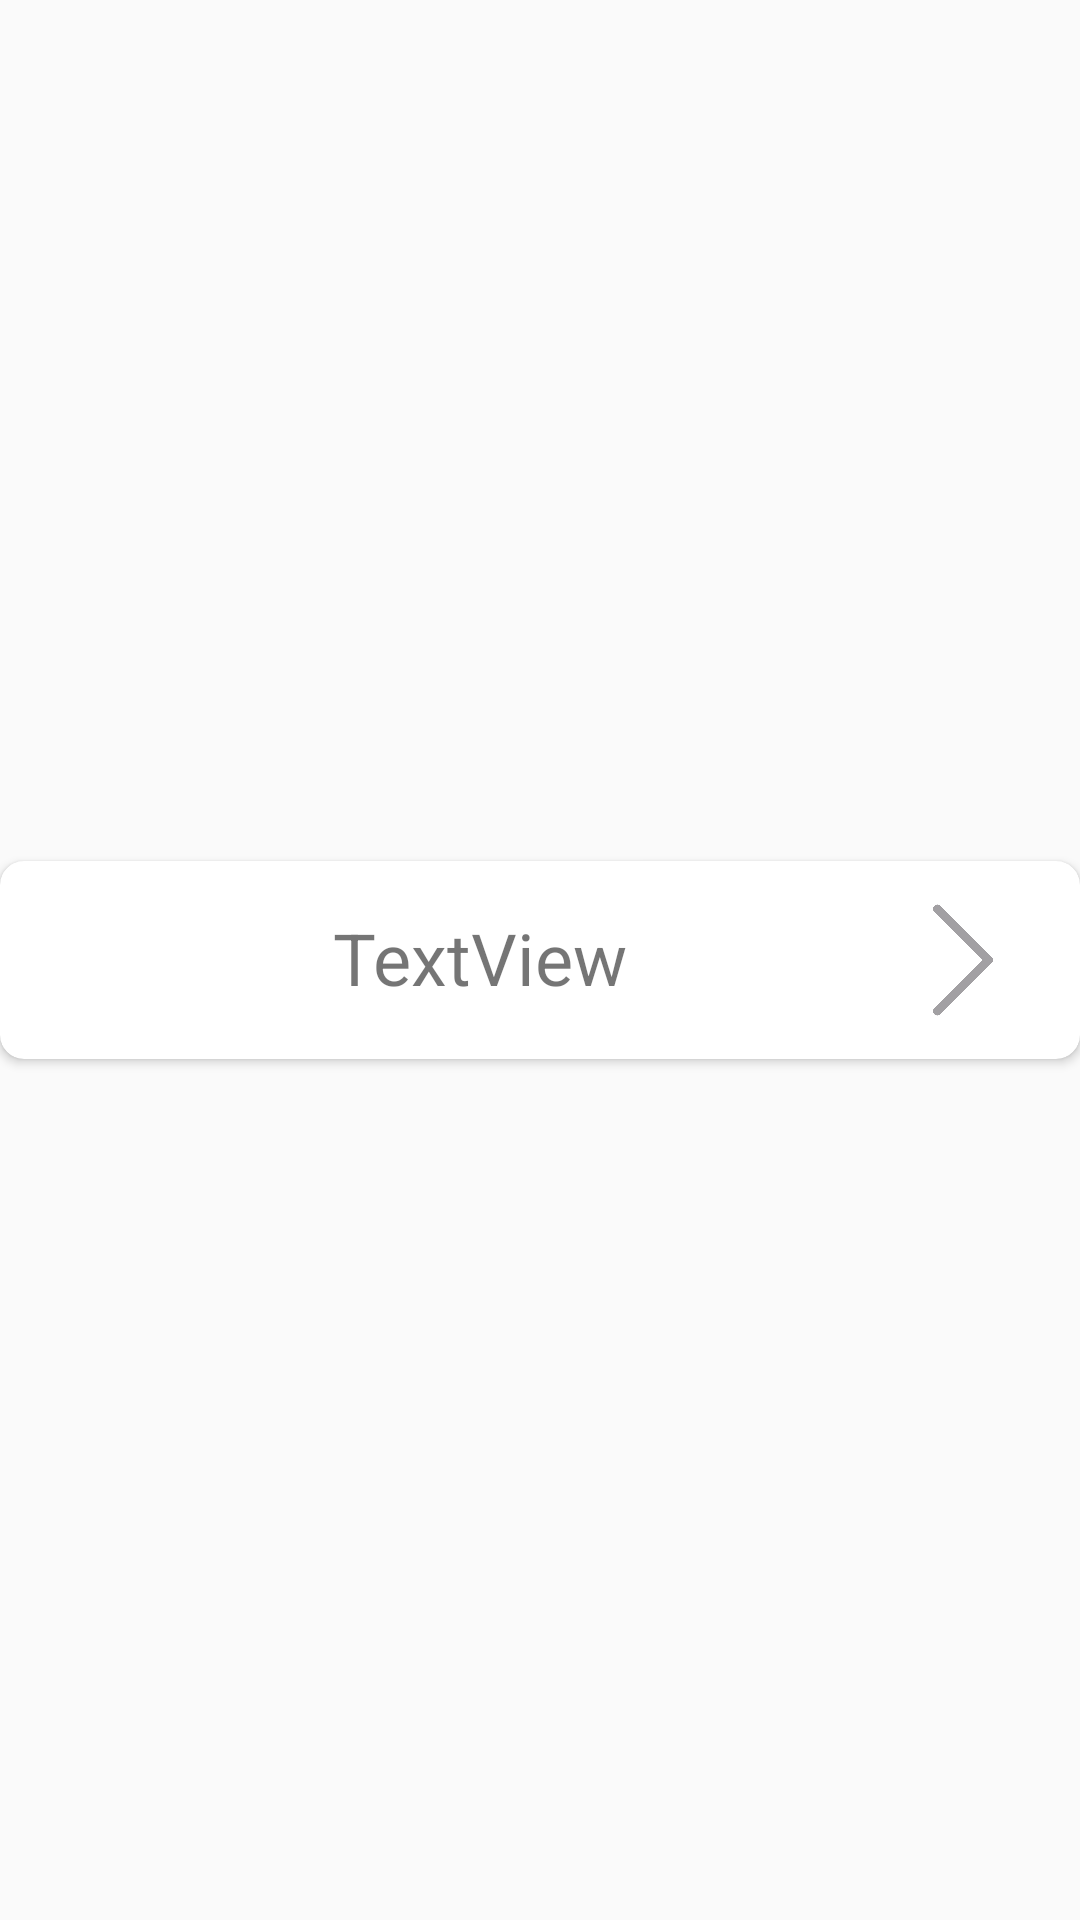

Where to tap for icons on this 1080w x 1920h app screen, as [x,y]:
right arrow: [963,960]
